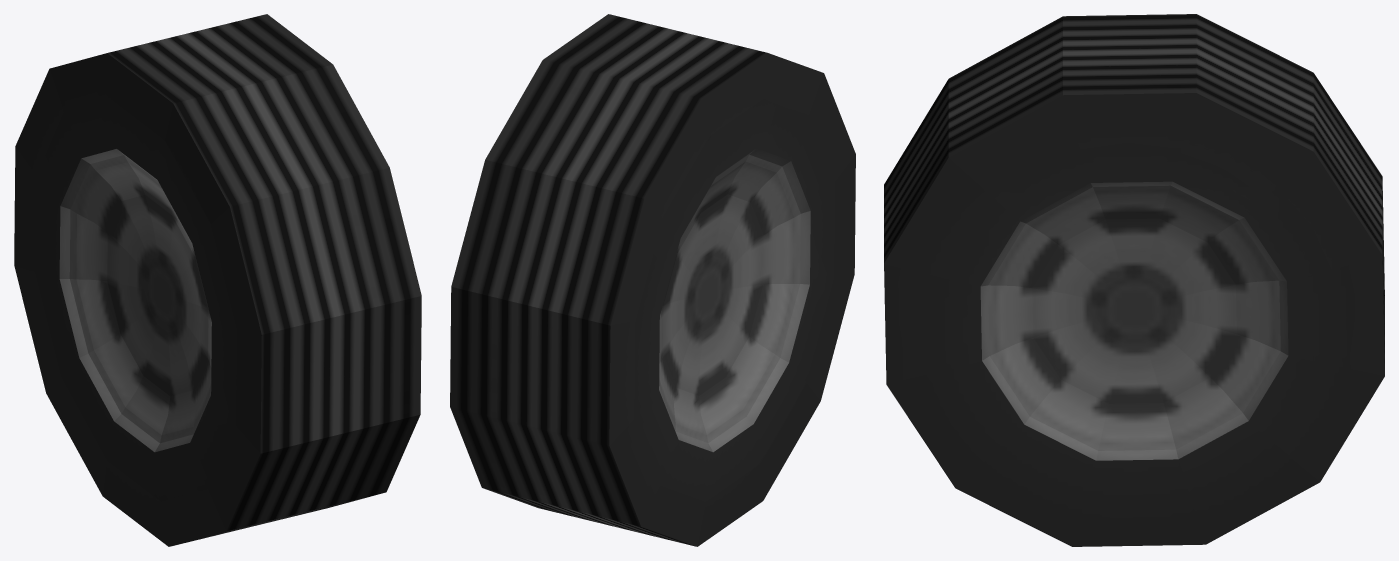
File: D15WheelC.fbx
The picture shows the model from 3 angles, left to right: view 1: azimuth 30°, elevation 25°; view 2: azimuth 150°, elevation 25°; view 3: azimuth 270°, elevation 25°; orthographic projection.
Parts seen in each view (by area): view 1: GavrilWheel; view 2: GavrilWheel; view 3: GavrilWheel.
Part boxes in pixels (box(x1,y1,x2,y2)): GavrilWheel: box(14, 14, 421, 546); GavrilWheel: box(450, 14, 855, 546); GavrilWheel: box(884, 14, 1384, 546).
Bounding box in the file's own units: 0.3644 × 0.9486 × 0.9486.
